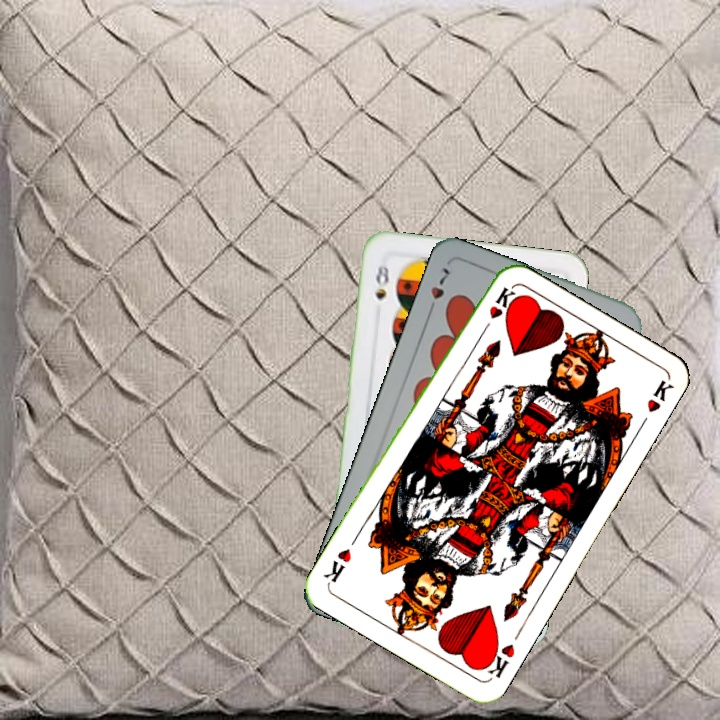H7: (424, 263, 453, 318)
HK: (476, 283, 516, 338), (477, 637, 518, 681)
S8: (371, 261, 392, 302)
